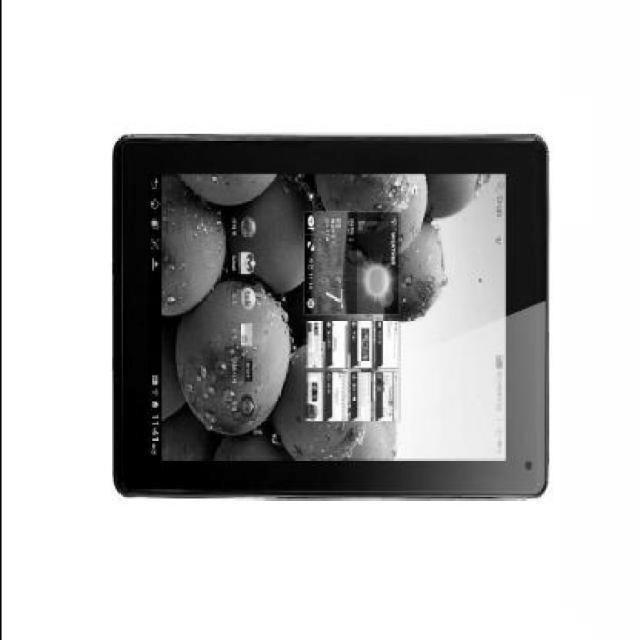fake: (100, 120, 560, 523)
